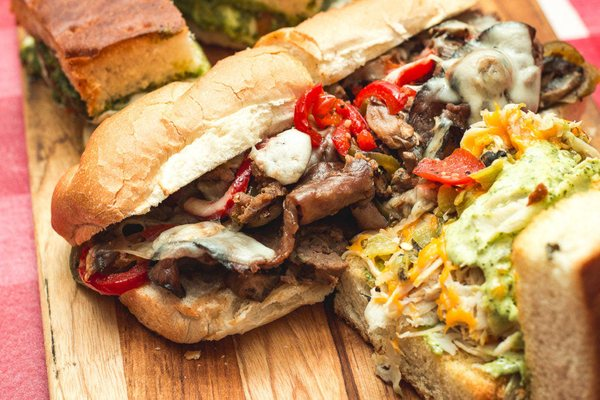soup: (60, 0, 593, 343), (9, 0, 211, 123)
